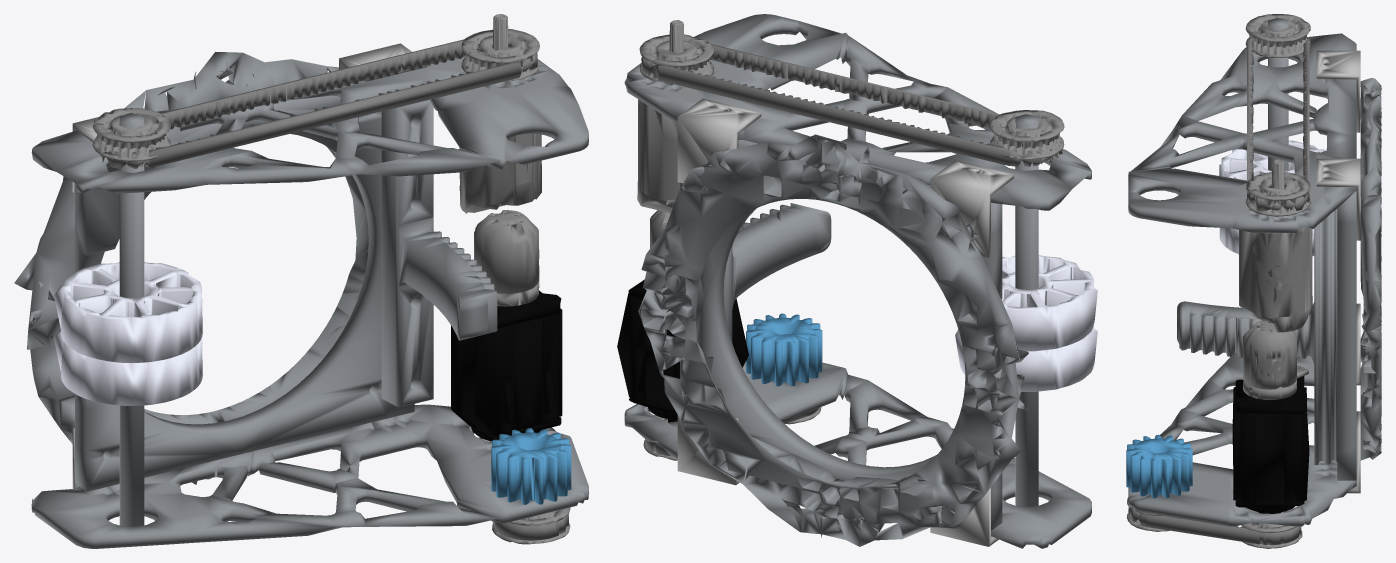
3 views of the same model, side by side, from view 1: azimuth 30°, elevation 25°; view 2: azimuth 150°, elevation 25°; view 3: azimuth 270°, elevation 25° (orthographic). The views are drawn at different scales.
Visible parts, largest first — view 1: 2929_Right Side plate of turret (looking from wheel in), 2971_Left side plate of turret (looking from wheels in), 2979_Base plate (of turret), 2915_Spur gear (156 teeth), 2346_am-5038 200T 20DP Turntable Gear, 2959_116T 5M 9mm Wide Belt, 2963_3 In 1-2 Hex Bore Compliant Wheel am-3945, 2957_am-XXXX - 57 Sport 3 Stage Ring Gear Housing, 3007_Churro Shaft Shooter, 2973_3 In 1-2 Hex Bore Compliant Wheel am-3945, 2919_Spur gear (15 teeth), 3011_NEO 550 Brushless Motor (REV-21-1651) (+7 smaller); view 2: 2346_am-5038 200T 20DP Turntable Gear, 2971_Left side plate of turret (looking from wheels in), 2929_Right Side plate of turret (looking from wheel in), 2959_116T 5M 9mm Wide Belt, 2979_Base plate (of turret), 2963_3 In 1-2 Hex Bore Compliant Wheel am-3945, 2915_Spur gear (156 teeth), 3007_Churro Shaft Shooter, 2919_Spur gear (15 teeth), 2943_Kraken X44, 2957_am-XXXX - 57 Sport 3 Stage Ring Gear Housing, 2935_back left L-shaped shooter bracket (looking from wheel  (+7 smaller); view 3: 2971_Left side plate of turret (looking from wheels in), 2929_Right Side plate of turret (looking from wheel in), 2915_Spur gear (156 teeth), 2346_am-5038 200T 20DP Turntable Gear, 2943_Kraken X44, 2957_am-XXXX - 57 Sport 3 Stage Ring Gear Housing, 2979_Base plate (of turret), 3011_NEO 550 Brushless Motor (REV-21-1651), 2919_Spur gear (15 teeth), 2959_116T 5M 9mm Wide Belt, 3005_55T 5M 9mm Wide Belt, 2933_;eft front L-shaped shooter bracket (looking from wheel (+13 smaller).
Boxes of the visible parts, x1=… form: 2929_Right Side plate of turret (looking from wheel in): x1=31, y1=404, x2=588, y2=548; 2971_Left side plate of turret (looking from wheels in): x1=31, y1=56, x2=588, y2=193; 2979_Base plate (of turret): x1=75, y1=95, x2=414, y2=491; 2915_Spur gear (156 teeth): x1=381, y1=100, x2=497, y2=407; 2346_am-5038 200T 20DP Turntable Gear: x1=14, y1=52, x2=368, y2=484; 2959_116T 5M 9mm Wide Belt: x1=99, y1=39, x2=537, y2=169; 2963_3 In 1-2 Hex Bore Compliant Wheel am-3945: x1=54, y1=262, x2=202, y2=362; 2957_am-XXXX - 57 Sport 3 Stage Ring Gear Housing: x1=451, y1=308, x2=562, y2=436; 3007_Churro Shaft Shooter: x1=119, y1=113, x2=144, y2=526; 2973_3 In 1-2 Hex Bore Compliant Wheel am-3945: x1=54, y1=329, x2=202, y2=405; 2919_Spur gear (15 teeth): x1=491, y1=428, x2=571, y2=504; 3011_NEO 550 Brushless Motor (REV-21-1651): x1=474, y1=210, x2=539, y2=306; 2346_am-5038 200T 20DP Turntable Gear: x1=638, y1=134, x2=1028, y2=546; 2971_Left side plate of turret (looking from wheels in): x1=624, y1=14, x2=1091, y2=210; 2929_Right Side plate of turret (looking from wheel in): x1=624, y1=361, x2=1091, y2=548; 2959_116T 5M 9mm Wide Belt: x1=641, y1=44, x2=1062, y2=167; 2979_Base plate (of turret): x1=680, y1=140, x2=1002, y2=530; 2963_3 In 1-2 Hex Bore Compliant Wheel am-3945: x1=1001, y1=255, x2=1097, y2=351; 2915_Spur gear (156 teeth): x1=723, y1=203, x2=831, y2=342; 3007_Churro Shaft Shooter: x1=1015, y1=114, x2=1038, y2=506; 2919_Spur gear (15 teeth): x1=746, y1=313, x2=822, y2=386; 2943_Kraken X44: x1=637, y1=20, x2=684, y2=213; 2957_am-XXXX - 57 Sport 3 Stage Ring Gear Housing: x1=617, y1=293, x2=748, y2=410; 2935_back left L-shaped shooter bracket (looking from wheel : x1=677, y1=98, x2=761, y2=183; 2971_Left side plate of turret (looking from wheels in): x1=1128, y1=33, x2=1356, y2=232; 2929_Right Side plate of turret (looking from wheel in): x1=1128, y1=353, x2=1356, y2=526; 2915_Spur gear (156 teeth): x1=1177, y1=209, x2=1337, y2=464; 2346_am-5038 200T 20DP Turntable Gear: x1=1360, y1=78, x2=1381, y2=460; 2943_Kraken X44: x1=1239, y1=159, x2=1312, y2=332; 2957_am-XXXX - 57 Sport 3 Stage Ring Gear Housing: x1=1232, y1=387, x2=1309, y2=504; 2979_Base plate (of turret): x1=1337, y1=191, x2=1356, y2=480; 3011_NEO 550 Brushless Motor (REV-21-1651): x1=1243, y1=320, x2=1308, y2=399; 2919_Spur gear (15 teeth): x1=1126, y1=435, x2=1192, y2=498; 2959_116T 5M 9mm Wide Belt: x1=1247, y1=36, x2=1309, y2=211; 3005_55T 5M 9mm Wide Belt: x1=1128, y1=507, x2=1301, y2=544; 2933_;eft front L-shaped shooter bracket (looking from wheel: x1=1316, y1=50, x2=1360, y2=132.
Bounding box in the file's own units: 0.3018 × 0.2682 × 0.1654.
